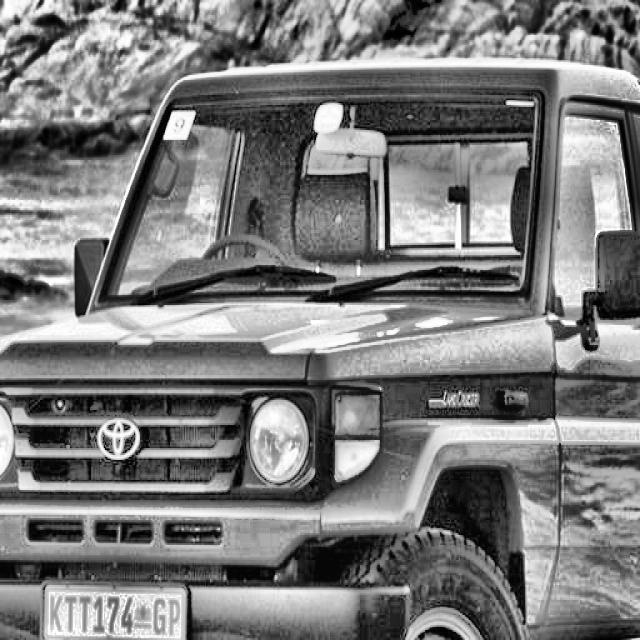light_vehicle: (0, 13, 640, 640)
